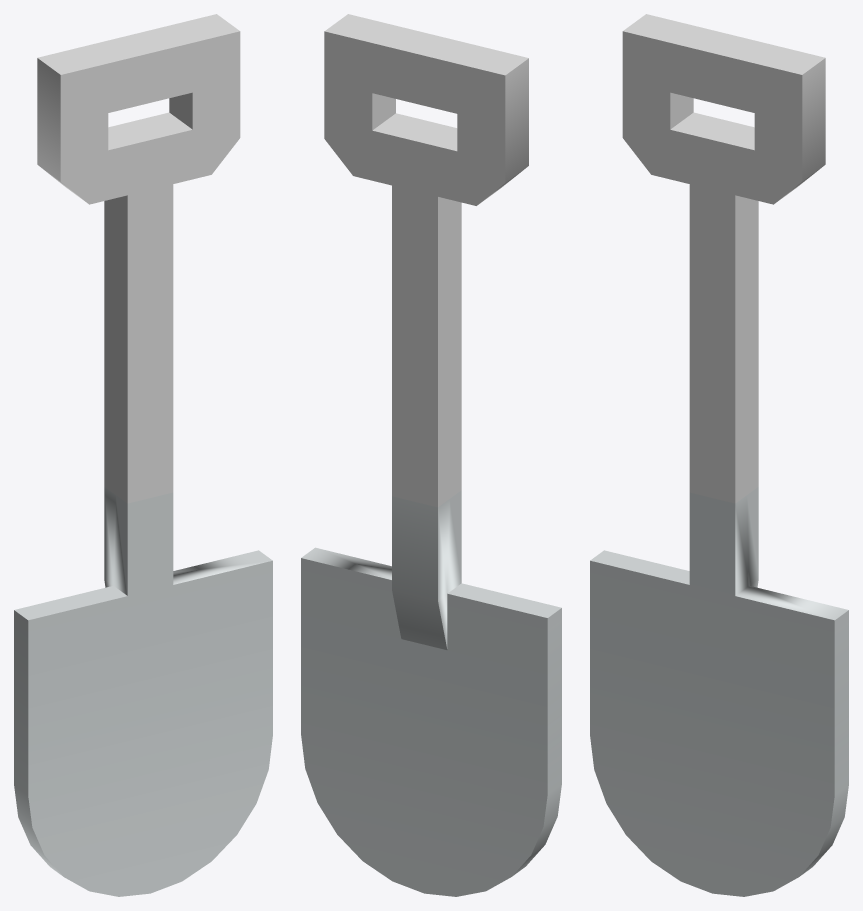
The model's file is Shovel.fbx.
3 renders of one model, left to right at view 1: azimuth 30°, elevation 25°; view 2: azimuth 150°, elevation 25°; view 3: azimuth 330°, elevation 25°, orthographic.
Visible parts, largest first — view 1: Shovel; view 2: Shovel; view 3: Shovel.
Part boxes in pixels (<box>): Shovel: <box>14,14,272,896</box>; Shovel: <box>301,14,561,896</box>; Shovel: <box>590,14,848,896</box>.
Bounding box in the file's own units: 0.099 × 1.95 × 0.5941.
